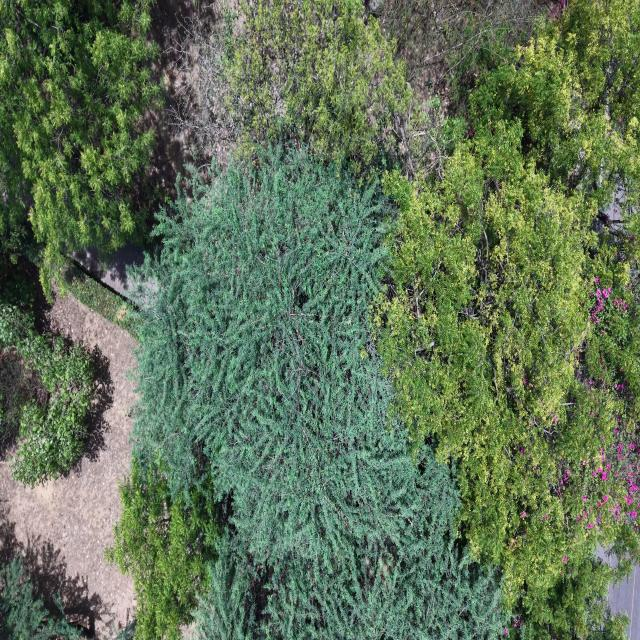DRY_AREA: (0, 296, 136, 636)
VEGETATION_TREE: (75, 0, 639, 639), (135, 2, 639, 638), (134, 150, 505, 638), (375, 2, 639, 637), (376, 138, 639, 634), (0, 0, 160, 485), (171, 0, 541, 175), (0, 0, 160, 291), (172, 0, 433, 178), (467, 0, 639, 241), (228, 0, 414, 173), (0, 255, 95, 486), (365, 0, 549, 114), (106, 459, 219, 639), (0, 304, 94, 486), (166, 0, 239, 173), (0, 553, 92, 639), (0, 556, 80, 639), (63, 262, 139, 338), (0, 253, 38, 309), (111, 620, 135, 639)
